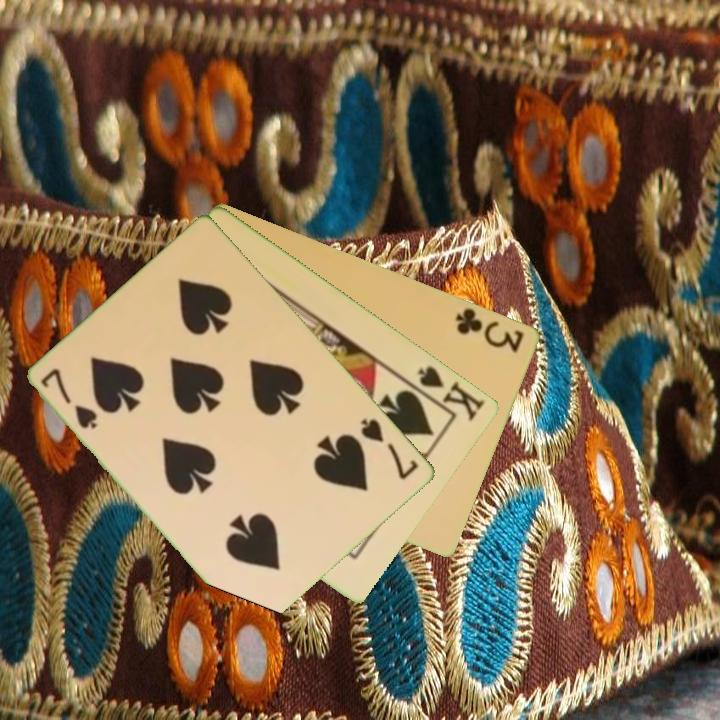3c: (452, 304, 527, 355)
7s: (358, 414, 422, 483), (37, 365, 101, 432)
Ks: (405, 361, 489, 424)
